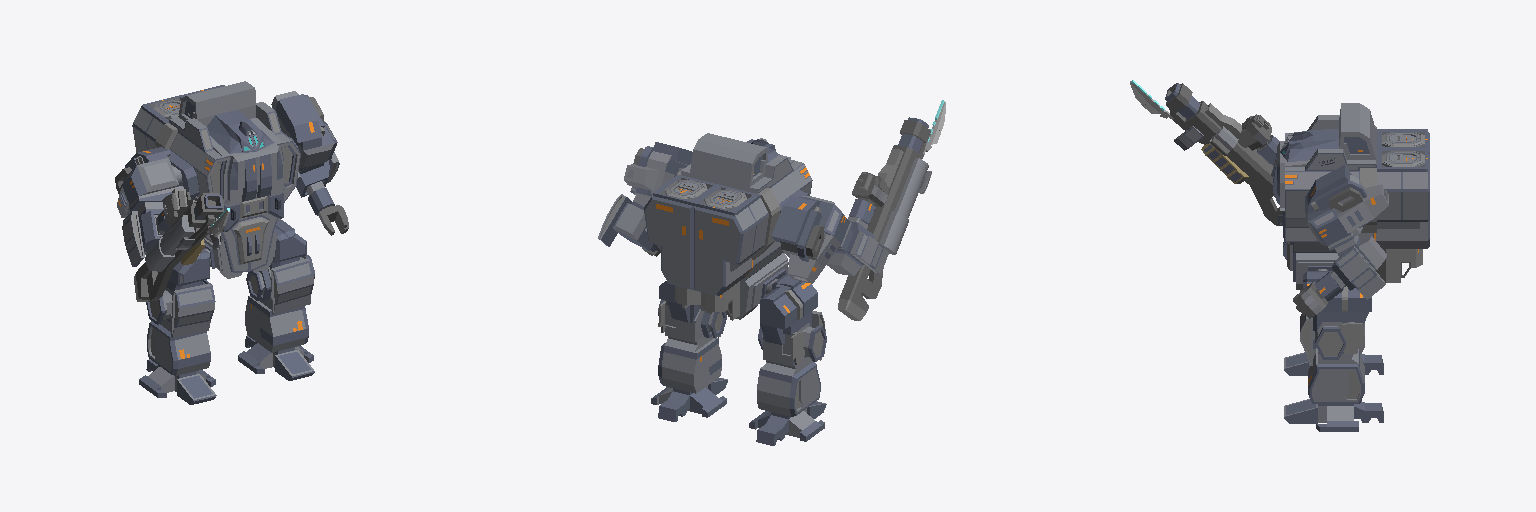
File: Deployer_bot.obj
3 renders of one model, left to right at view 1: azimuth 30°, elevation 25°; view 2: azimuth 150°, elevation 25°; view 3: azimuth 270°, elevation 25°, orthographic.
Parts seen in each view (by area): view 1: Deployer_bot-COM-body_1-41635-CoolGray5, Deployer_bot-COM-body_1-41635-CoolGray6, Deployer_bot-COM-Group_1-41631-CoolGray6, Deployer_bot-COM-Group_9-41632-CoolGray5, Deployer_bot-COM-Group_1-41631-CoolGray5, Deployer_bot-COM-Group_9-41632-CoolGray6, Deployer_bot-COM-body-41636-CoolGray5, Deployer_bot-GRP-41640-Color_005, Deployer_bot-COM-Group_12-41630-CoolGray6, Deployer_bot-COM-body-41636-CoolGray6, Deployer_bot-COM-Group_2-41637-CoolGray5, Deployer_bot-COM-body_1-41635-Color_004 (+8 smaller); view 2: Deployer_bot-COM-body_1-41635-CoolGray5, Deployer_bot-COM-Group_9-41632-CoolGray6, Deployer_bot-COM-body-41636-CoolGray5, Deployer_bot-COM-Group_9-41632-CoolGray5, Deployer_bot-COM-Group_1-41631-CoolGray6, Deployer_bot-COM-Group_1-41631-CoolGray5, Deployer_bot-GRP-41640-Color_005, Deployer_bot-COM-Group_2-41637-CoolGray6, Deployer_bot-COM-body_1-41635-CoolGray6, Deployer_bot-GRP-41640-CoolGray5, Deployer_bot-COM-Group_2-41637-CoolGray5, Deployer_bot-COM-body_1-41635-Color_004 (+10 smaller); view 3: Deployer_bot-COM-body-41636-CoolGray5, Deployer_bot-COM-Group_1-41631-CoolGray6, Deployer_bot-COM-body-41636-CoolGray6, Deployer_bot-GRP-41640-Color_005, Deployer_bot-COM-Group_1-41631-CoolGray5, Deployer_bot-COM-Group_12-41630-CoolGray6, Deployer_bot-COM-Group_1-41631-Color_004, Deployer_bot-COM-Group_11-41634-CoolGray5, Deployer_bot-COM-Group_12-41630-CoolGray5, Deployer_bot-COM-body-41636-Color_004, Deployer_bot-COM-body_1-41635-CoolGray5, Deployer_bot-COM-Group_11-41634-CoolGray6 (+5 smaller).
Part boxes in pixels (bbox=[...]): Deployer_bot-COM-body_1-41635-CoolGray5: bbox=[132, 89, 257, 278]; Deployer_bot-COM-body_1-41635-CoolGray6: bbox=[132, 95, 256, 272]; Deployer_bot-COM-Group_1-41631-CoolGray6: bbox=[238, 220, 314, 380]; Deployer_bot-COM-Group_9-41632-CoolGray5: bbox=[148, 249, 215, 399]; Deployer_bot-COM-Group_1-41631-CoolGray5: bbox=[245, 256, 313, 375]; Deployer_bot-COM-Group_9-41632-CoolGray6: bbox=[139, 249, 216, 404]; Deployer_bot-COM-body-41636-CoolGray5: bbox=[190, 81, 299, 271]; Deployer_bot-GRP-41640-Color_005: bbox=[136, 191, 223, 300]; Deployer_bot-COM-Group_12-41630-CoolGray6: bbox=[276, 94, 337, 173]; Deployer_bot-COM-body-41636-CoolGray6: bbox=[183, 85, 300, 270]; Deployer_bot-COM-Group_2-41637-CoolGray5: bbox=[117, 154, 183, 217]; Deployer_bot-COM-body_1-41635-Color_004: bbox=[155, 123, 254, 263]; Deployer_bot-COM-body_1-41635-CoolGray5: bbox=[695, 139, 811, 319]; Deployer_bot-COM-Group_9-41632-CoolGray6: bbox=[749, 273, 826, 445]; Deployer_bot-COM-body-41636-CoolGray5: bbox=[645, 133, 762, 310]; Deployer_bot-COM-Group_9-41632-CoolGray5: bbox=[757, 279, 825, 437]; Deployer_bot-COM-Group_1-41631-CoolGray6: bbox=[651, 281, 727, 421]; Deployer_bot-COM-Group_1-41631-CoolGray5: bbox=[657, 300, 727, 410]; Deployer_bot-GRP-41640-Color_005: bbox=[839, 120, 939, 312]; Deployer_bot-COM-Group_2-41637-CoolGray6: bbox=[772, 196, 853, 261]; Deployer_bot-COM-body_1-41635-CoolGray6: bbox=[694, 144, 812, 297]; Deployer_bot-GRP-41640-CoolGray5: bbox=[880, 158, 931, 254]; Deployer_bot-COM-Group_2-41637-CoolGray5: bbox=[780, 196, 851, 283]; Deployer_bot-COM-body_1-41635-Color_004: bbox=[701, 188, 780, 320]; Deployer_bot-COM-body-41636-CoolGray5: bbox=[1277, 118, 1427, 289]; Deployer_bot-COM-Group_1-41631-CoolGray6: bbox=[1284, 271, 1383, 431]; Deployer_bot-COM-body-41636-CoolGray6: bbox=[1273, 134, 1429, 281]; Deployer_bot-GRP-41640-Color_005: bbox=[1143, 83, 1282, 225]; Deployer_bot-COM-Group_1-41631-CoolGray5: bbox=[1284, 269, 1364, 422]; Deployer_bot-COM-Group_12-41630-CoolGray6: bbox=[1308, 165, 1373, 256]; Deployer_bot-COM-Group_1-41631-Color_004: bbox=[1301, 286, 1363, 398]; Deployer_bot-COM-Group_11-41634-CoolGray5: bbox=[1330, 236, 1386, 299]; Deployer_bot-COM-Group_12-41630-CoolGray5: bbox=[1307, 175, 1388, 253]; Deployer_bot-COM-body-41636-Color_004: bbox=[1287, 151, 1422, 282]; Deployer_bot-COM-body_1-41635-CoolGray5: bbox=[1277, 103, 1424, 154]; Deployer_bot-COM-Group_11-41634-CoolGray6: bbox=[1315, 247, 1376, 300].
Bounding box in the file's own units: 3.2 × 3.58 × 3.53.